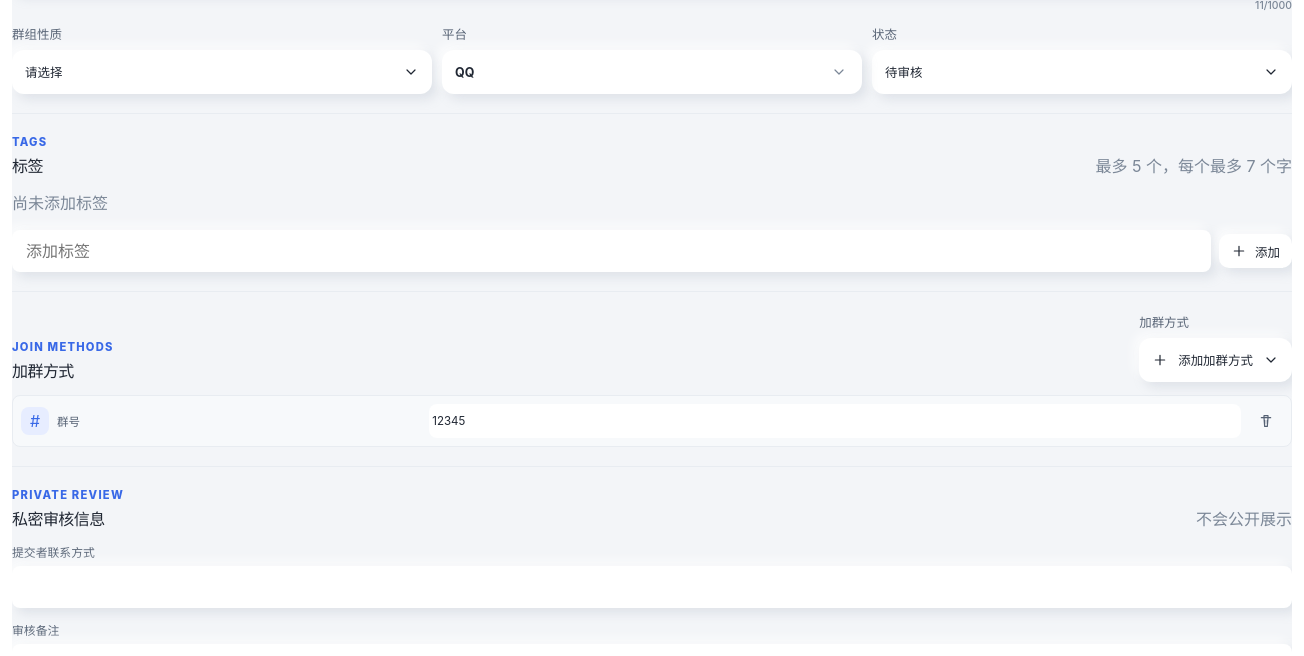
Test: AdminEditForm 加群方式多选下拉 › 草稿已有加群方式时下拉显示勾选标记
(page scrolled)
What coordinates should you click on to do the following:
click the dropdown named "加群方式"
I would click on:
 (1216, 360)
Its box is [1139, 338, 1292, 382].
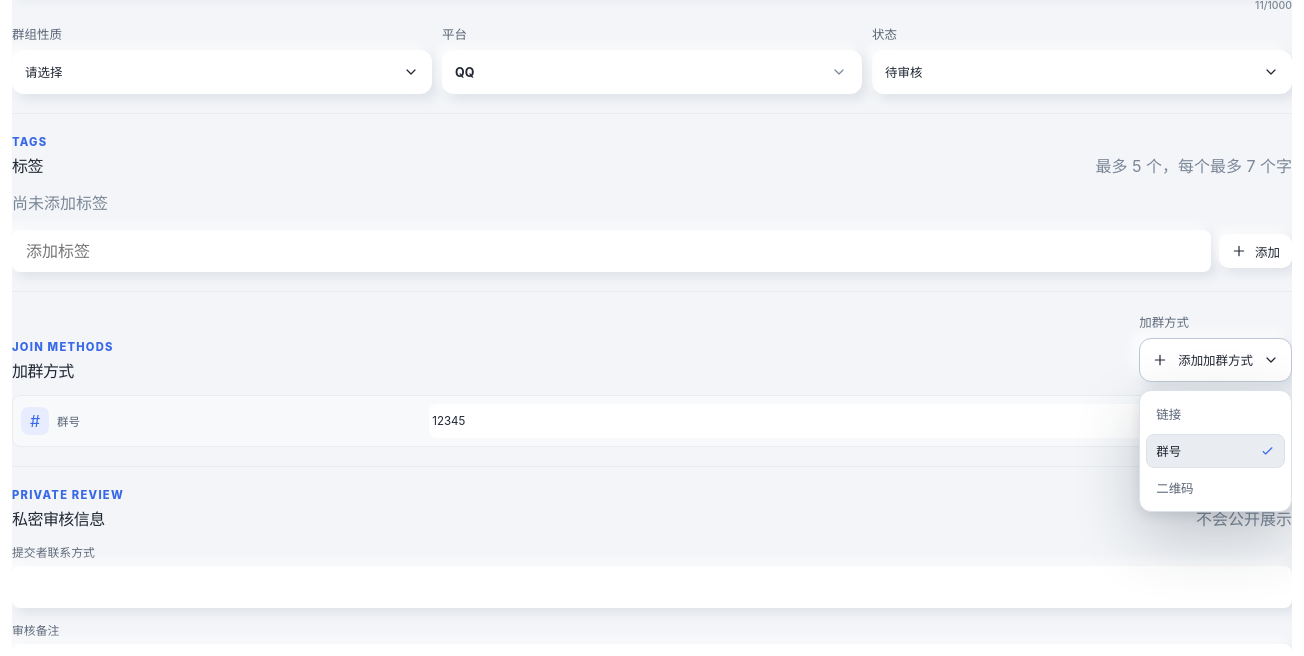
Expected: the icon with class "app-select__check" is shown, [1260, 444, 1275, 458]
